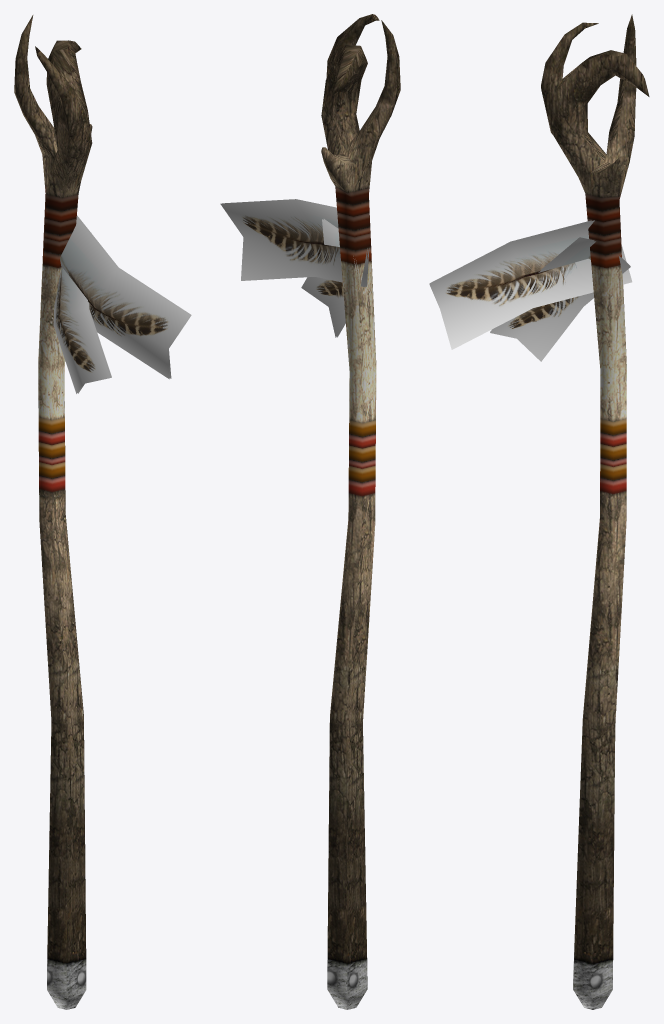
File: посох4.glb
3 views of the same model, side by side, from view 1: azimuth 30°, elevation 25°; view 2: azimuth 210°, elevation 25°; view 3: azimuth 270°, elevation 25° (orthographic).
Visible parts, largest first — view 1: DruidStaff; view 2: DruidStaff; view 3: DruidStaff.
Boxes of the visible parts, x1,y1,x2,y2 form: DruidStaff: (14,15,191,1009); DruidStaff: (220,14,400,1009); DruidStaff: (429,14,649,1009).
Size of the model in its own units: 0.4054 by 4.9 by 0.9942.
2 materials, 2 textured.
